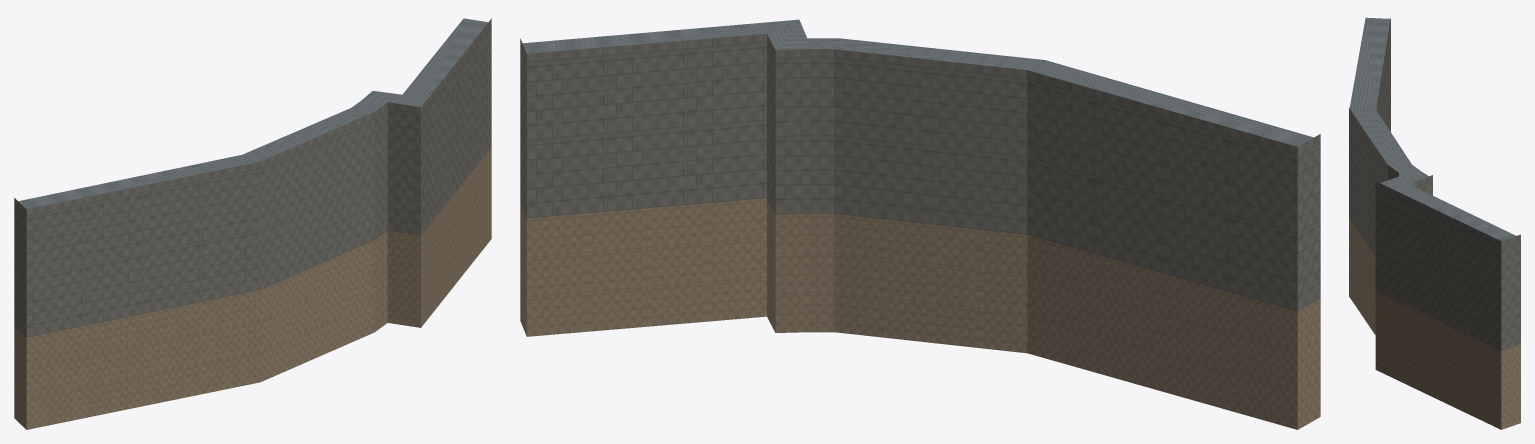
The model's file is bld_c-3_-3_563.gltf.
3 renders of one model, left to right at view 1: azimuth 30°, elevation 25°; view 2: azimuth 150°, elevation 25°; view 3: azimuth 270°, elevation 25°, orthographic. The views are drawn at different scales.
Visible parts, largest first — view 1: bld_c-3_-3_563; view 2: bld_c-3_-3_563; view 3: bld_c-3_-3_563.
Part boxes in pixels (<box>): bld_c-3_-3_563: <box>14,18,491,429</box>; bld_c-3_-3_563: <box>520,19,1320,429</box>; bld_c-3_-3_563: <box>1349,17,1520,429</box>.
Bounding box in the file's own units: 31.45 × 12.18 × 10.05.
4 materials, 4 textured.
